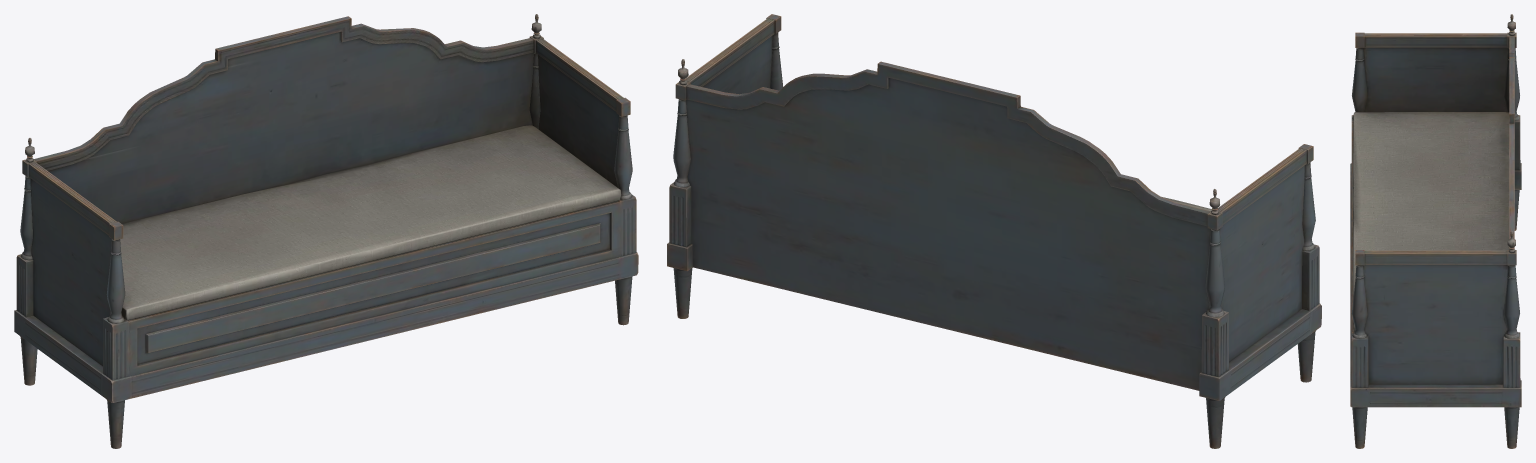
File: painted_wooden_sofa.glb
The picture shows the model from 3 angles, left to right: view 1: azimuth 30°, elevation 25°; view 2: azimuth 150°, elevation 25°; view 3: azimuth 270°, elevation 25°; orthographic projection. The views are drawn at different scales.
Parts seen in each view (by area): view 1: painted_wooden_sofa; view 2: painted_wooden_sofa; view 3: painted_wooden_sofa.
Part boxes in pixels (box(x1,y1,x2,y2)): painted_wooden_sofa: box(14, 14, 638, 448); painted_wooden_sofa: box(667, 14, 1321, 448); painted_wooden_sofa: box(1350, 14, 1521, 448).
Bounding box in the file's own units: 2.45 × 1.28 × 0.7873.
1 material, 1 textured.
